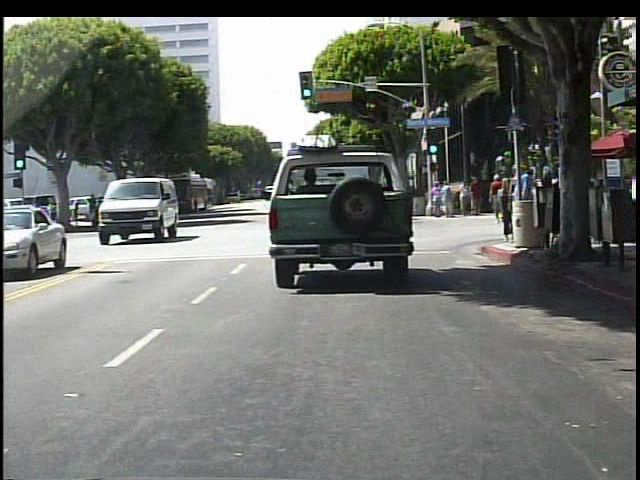person: (515, 163, 536, 243), (489, 172, 510, 223), (521, 175, 539, 227), (502, 171, 515, 242), (538, 173, 552, 219), (469, 172, 482, 213), (440, 180, 454, 217), (459, 179, 470, 215), (433, 184, 444, 216)
